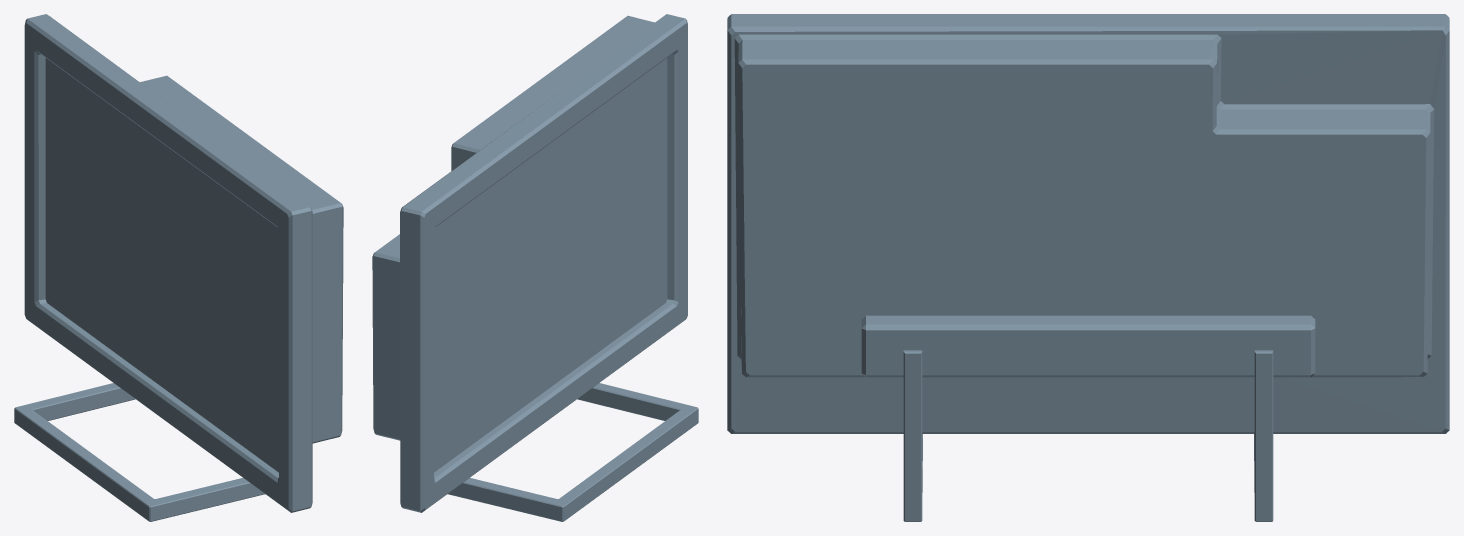
The picture shows the model from 3 angles, left to right: view 1: azimuth 30°, elevation 25°; view 2: azimuth 150°, elevation 25°; view 3: azimuth 270°, elevation 25°; orthographic projection. The views are drawn at different scales.
Parts seen in each view (by area): view 1: monitor2; view 2: monitor2; view 3: monitor2.
Boxes of the visible parts, left/top/right/bottom form: monitor2: left=14, top=14, right=343, bottom=521; monitor2: left=372, top=14, right=698, bottom=521; monitor2: left=727, top=14, right=1449, bottom=521.
Size of the model in its own units: 30.11 by 63.58 by 90.77.
